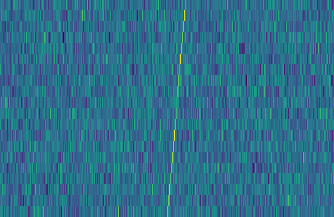signal: (163, 0, 190, 217)
